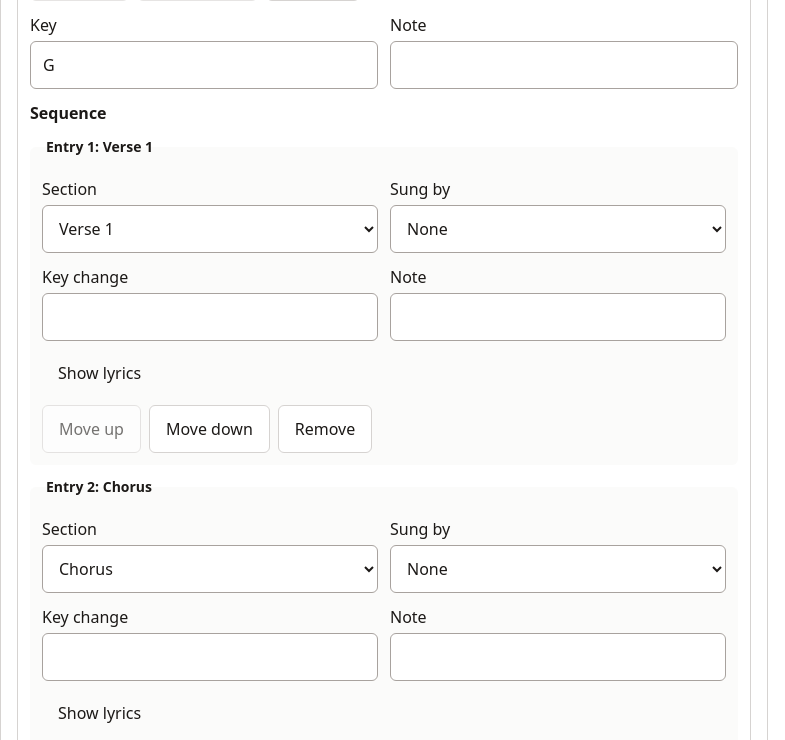
TC-E-003 sequence editor › shows the lyrics of a section on demand
(page scrolled)
Click the button "Show lyrics" below "Entry 1" at (100, 373), box [42,349,157,397]
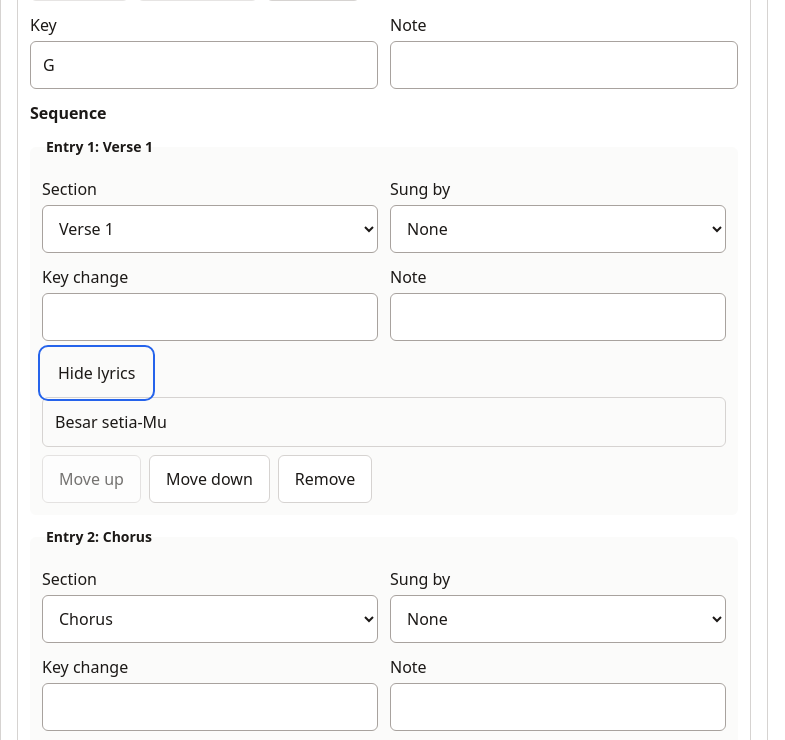
Now the text "Besar setia-Mu" is shown, box [42,397,726,447]
